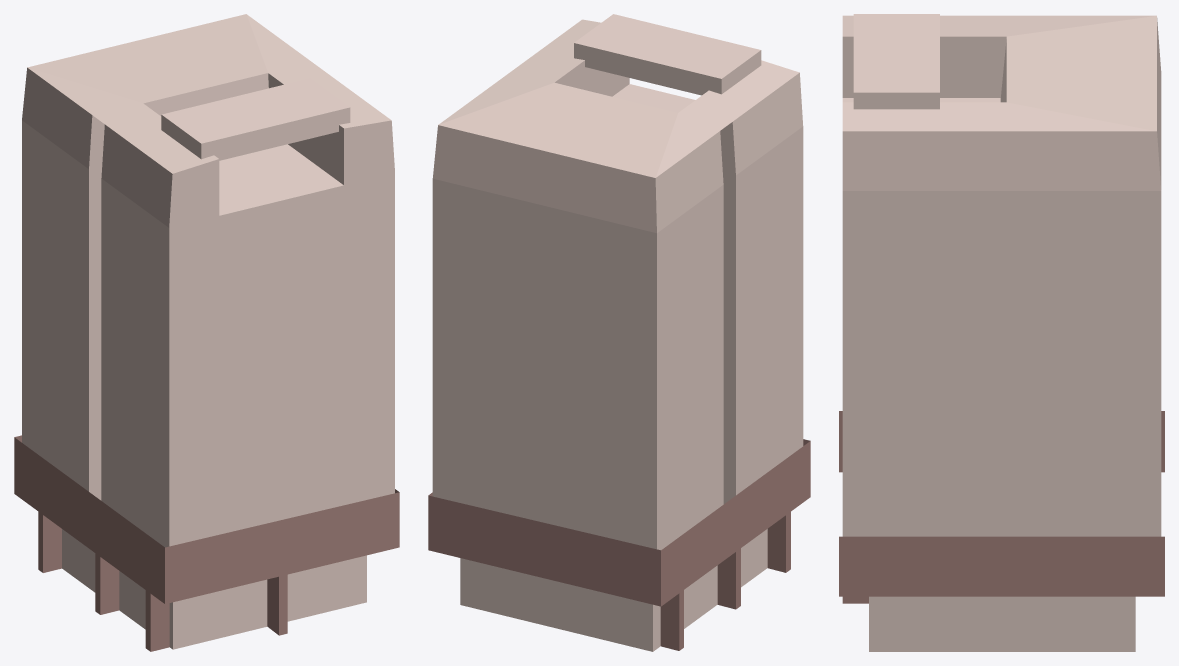
Rendered from Edificio027.FBX.
3 views of the same model, side by side, from view 1: azimuth 30°, elevation 25°; view 2: azimuth 150°, elevation 25°; view 3: azimuth 270°, elevation 25° (orthographic). The views are drawn at different scales.
Visible parts, largest first — view 1: Edificio010; view 2: Edificio010; view 3: Edificio010.
Part boxes in pixels (x1,y1,x2,y2): Edificio010: (14,14,399,651); Edificio010: (428,14,810,651); Edificio010: (839,14,1164,651).
Size of the model in its own units: 668 by 1377 by 744.
